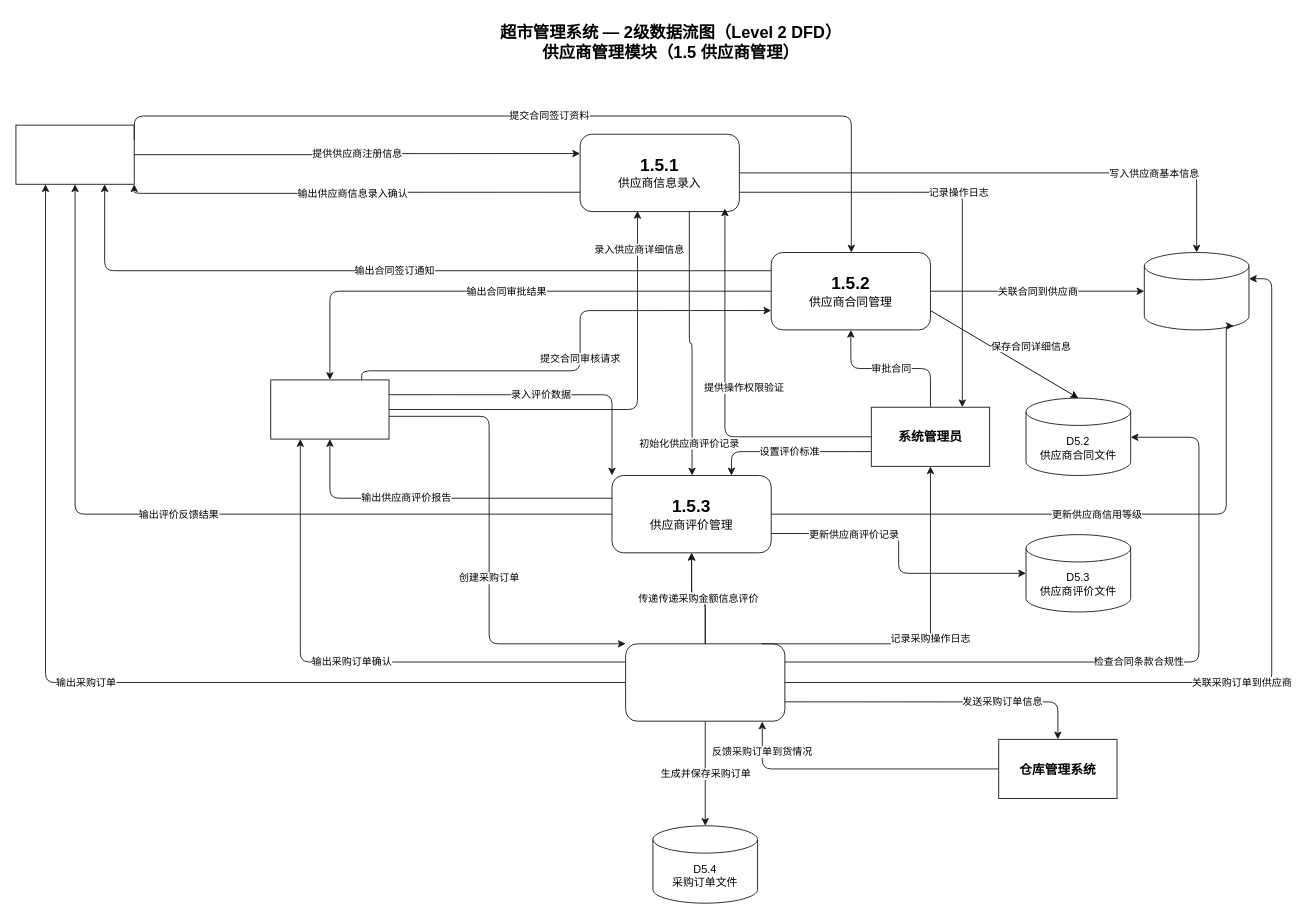
The diagram is 1308 pixels wide and 919 high, and some of its shapes have lost their labels. Here are the shapes that lost their labels. From the top down, the centre of each, then its label:
At point 74,154: "供应商".
At point 1196,291: "D5.1 供应商基本信息文件".
At point 329,409: "员工".
At point 705,682: "1.5.4 采购订单管理".
